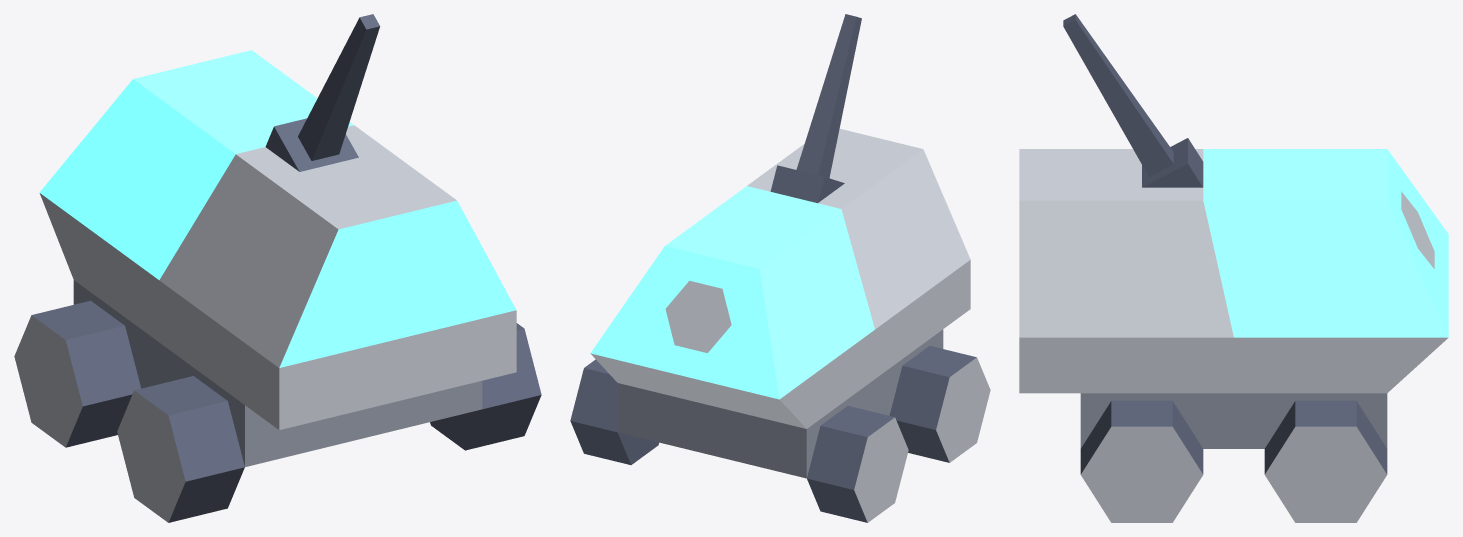
The model's file is rover.glb.
3 views of the same model, side by side, from view 1: azimuth 30°, elevation 25°; view 2: azimuth 150°, elevation 25°; view 3: azimuth 270°, elevation 25° (orthographic). The views are drawn at different scales.
Parts seen in each view (by area): view 1: rover; view 2: rover; view 3: rover.
Part boxes in pixels (x1,y1,x2,y2): rover: (14,14,541,522); rover: (570,14,990,522); rover: (1019,14,1448,522).
Size of the model in its own units: 0.3 by 0.3853 by 0.35.
